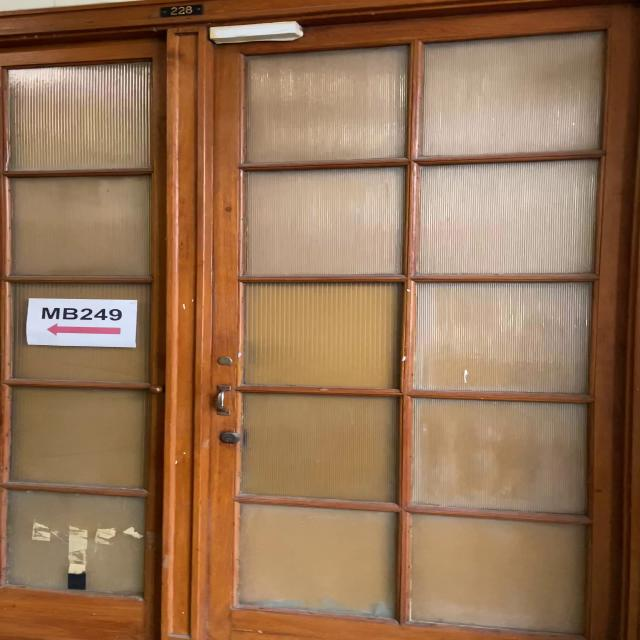room228: (158, 2, 205, 18)
